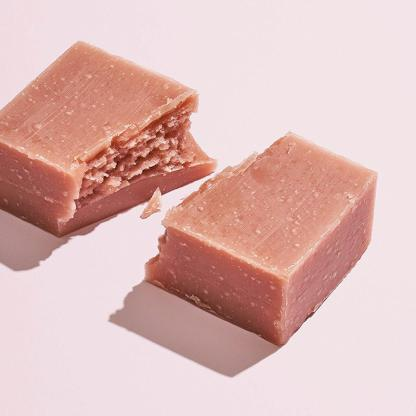soap: (137, 124, 403, 365), (0, 29, 227, 259)
